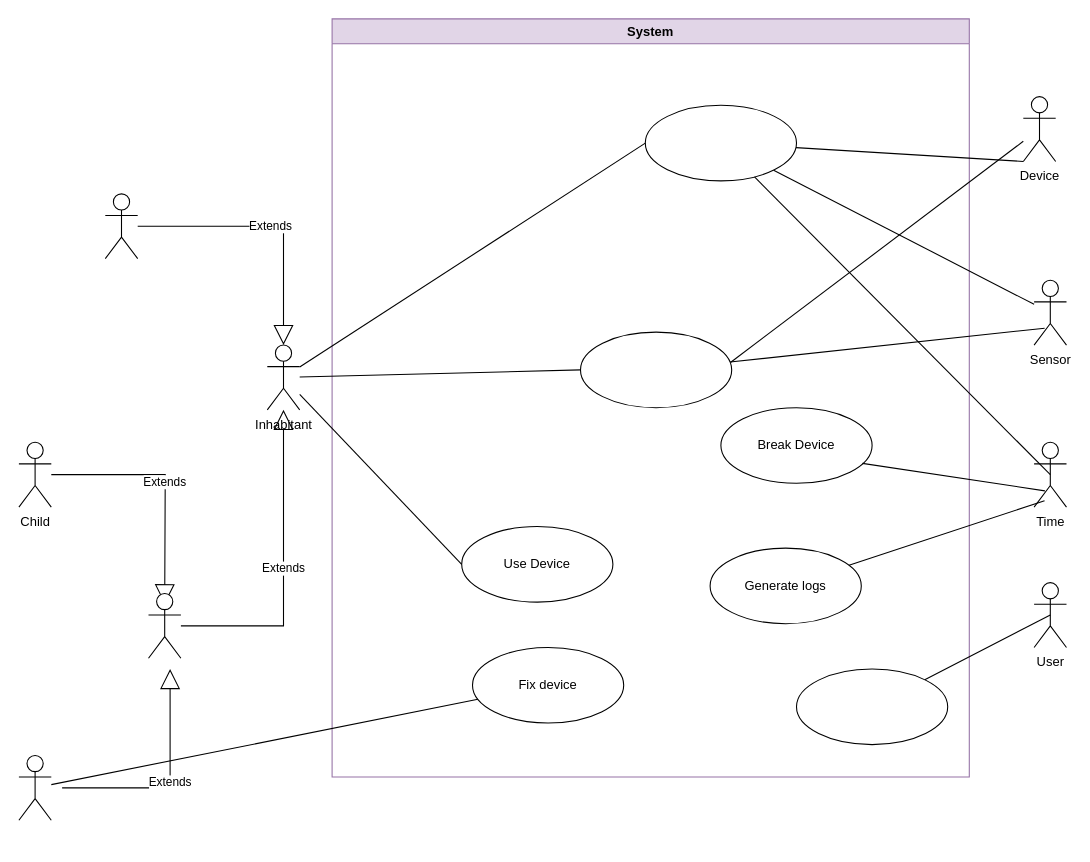
Image size: 1090x862. Some labels were removed from this diagram. The shapes that lost their labels are listed below. From the top down, each one's centre as x and y in pixels, then its label:
the point at 720,142: Call Events
the point at 121,226: Pet
the point at 655,369: Change State
the point at 164,625: Person
the point at 871,706: Config House
the point at 34,787: Adult
